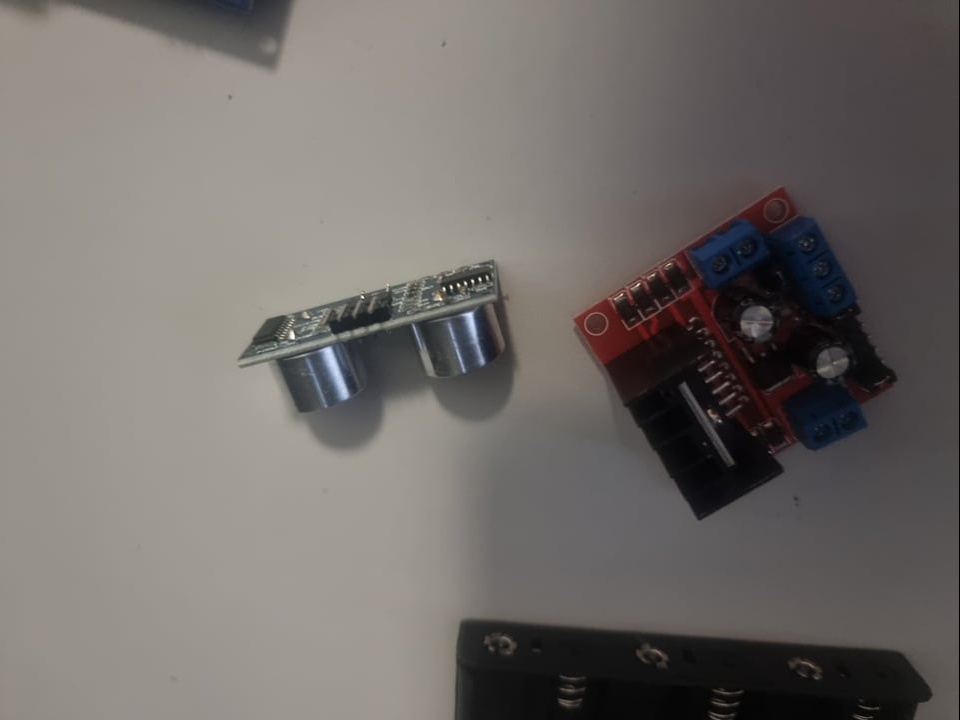BATTERY BOX: (454, 603, 934, 720)
MOTOR: (574, 188, 899, 527)
SENSOR: (236, 249, 516, 418)
